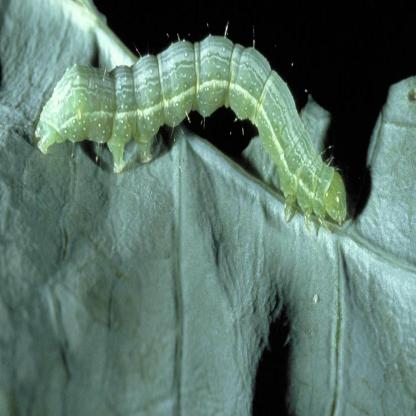armyworm: (32, 25, 356, 236)
